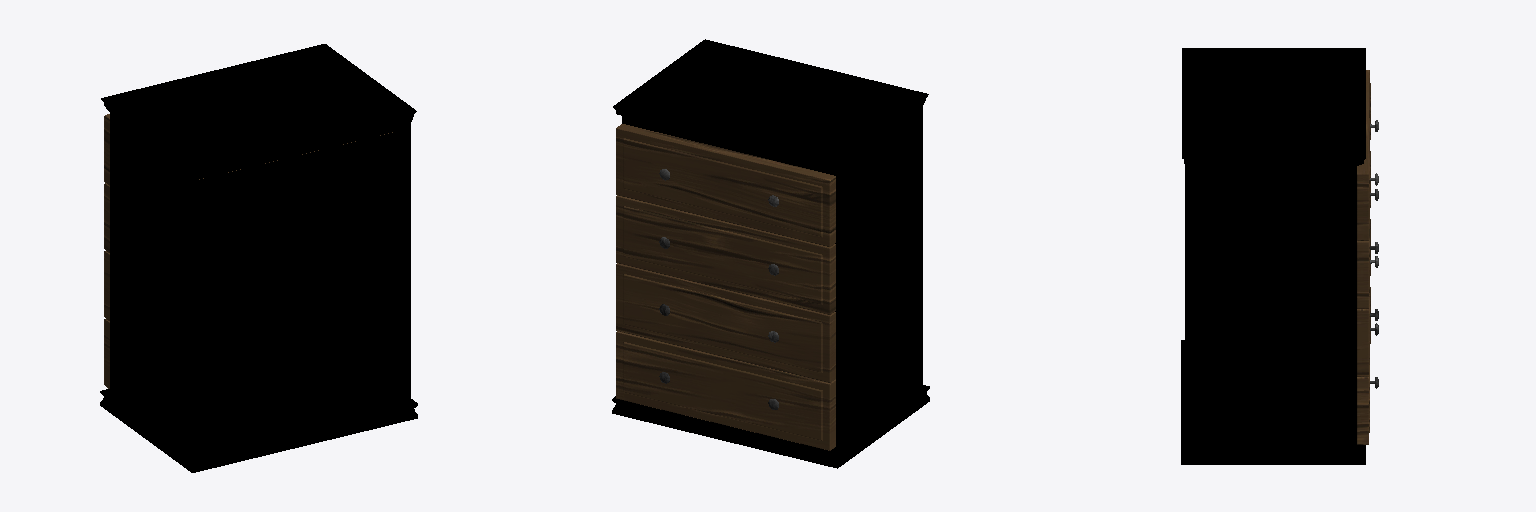
3 views of the same model, side by side, from view 1: azimuth 30°, elevation 25°; view 2: azimuth 150°, elevation 25°; view 3: azimuth 270°, elevation 25° (orthographic).
Visible parts, largest first — view 1: DRAWEROBJ:drawerdrawers1drawer_4drawer_5 polySurface7, DRAWEROBJ:drawerdrawers1drawer_4drawer_5 polySurface8; view 2: DRAWEROBJ:drawerdrawers1drawer_4drawer_5 polySurface7, DRAWEROBJ:drawerdrawers1drawer_4drawer_5 polySurface8, DRAWEROBJ:drawerdrawers1drawer_4drawer_5 polySurface13, DRAWEROBJ:drawerdrawers1drawer_4drawer_5 polySurface3, DRAWEROBJ:drawerdrawers1drawer_4drawer_5 polySurface14, DRAWEROBJ:drawerdrawers1drawer_4drawer_5 polySurface1; view 3: DRAWEROBJ:drawerdrawers1drawer_4drawer_5 polySurface7, DRAWEROBJ:drawerdrawers1drawer_4drawer_5 polySurface8, DRAWEROBJ:drawerdrawers1drawer_4drawer_5 polySurface13, DRAWEROBJ:drawerdrawers1drawer_4drawer_5 polySurface3, DRAWEROBJ:drawerdrawers1drawer_4drawer_5 polySurface1, DRAWEROBJ:drawerdrawers1drawer_4drawer_5 polySurface14.
Part boxes in pixels (x1,y1,x2,y2): DRAWEROBJ:drawerdrawers1drawer_4drawer_5 polySurface7: (100,119,417,472); DRAWEROBJ:drawerdrawers1drawer_4drawer_5 polySurface8: (101,44,416,179); DRAWEROBJ:drawerdrawers1drawer_4drawer_5 polySurface7: (612,112,929,468); DRAWEROBJ:drawerdrawers1drawer_4drawer_5 polySurface8: (613,39,928,173); DRAWEROBJ:drawerdrawers1drawer_4drawer_5 polySurface13: (616,124,835,246); DRAWEROBJ:drawerdrawers1drawer_4drawer_5 polySurface3: (616,331,835,450); DRAWEROBJ:drawerdrawers1drawer_4drawer_5 polySurface14: (616,263,835,382); DRAWEROBJ:drawerdrawers1drawer_4drawer_5 polySurface1: (616,195,835,314); DRAWEROBJ:drawerdrawers1drawer_4drawer_5 polySurface7: (1181,172,1365,464); DRAWEROBJ:drawerdrawers1drawer_4drawer_5 polySurface8: (1182,48,1365,171); DRAWEROBJ:drawerdrawers1drawer_4drawer_5 polySurface13: (1357,70,1370,240); DRAWEROBJ:drawerdrawers1drawer_4drawer_5 polySurface3: (1357,287,1370,444); DRAWEROBJ:drawerdrawers1drawer_4drawer_5 polySurface1: (1357,151,1370,308); DRAWEROBJ:drawerdrawers1drawer_4drawer_5 polySurface14: (1357,219,1370,376).
Size of the model in its own units: 4.84 by 6.29 by 3.68.
4 materials, 2 textured.